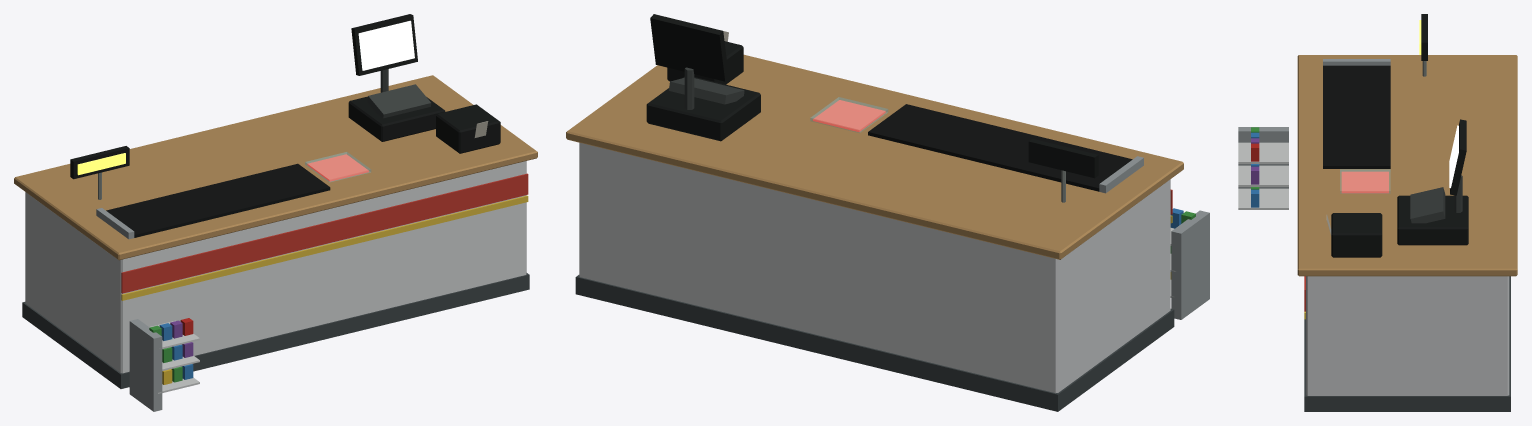
File: quay_thu_ngan.glb
3 renders of one model, left to right at view 1: azimuth 30°, elevation 25°; view 2: azimuth 150°, elevation 25°; view 3: azimuth 270°, elevation 25°, orthographic. The views are drawn at different scales.
Visible parts, largest first — view 1: quay_thu_ngan; view 2: quay_thu_ngan; view 3: quay_thu_ngan.
Boxes of the visible parts, x1,y1,x2,y2 form: quay_thu_ngan: [14, 14, 537, 411]; quay_thu_ngan: [566, 14, 1209, 411]; quay_thu_ngan: [1238, 14, 1517, 411].
Size of the model in its own units: 3 by 1.57 by 1.65.
